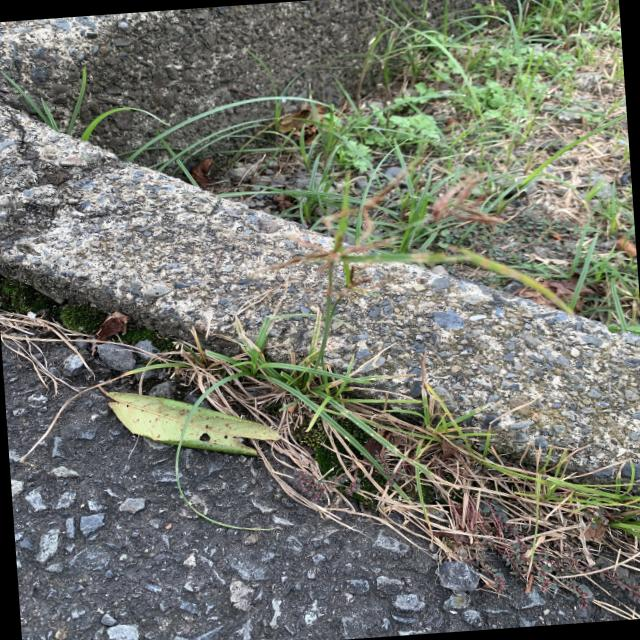cyperus: (253, 132, 520, 316)
